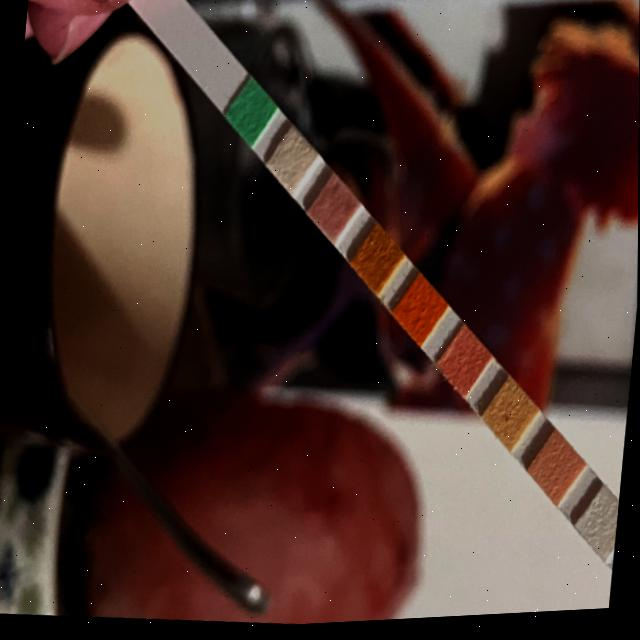Bilirubin: (275, 140, 304, 187)
Blood: (405, 289, 434, 338)
Glucose: (235, 94, 263, 139)
Ketone: (320, 191, 347, 234)
Nitrite: (589, 506, 619, 555)
Protein: (495, 398, 523, 442)
SpGravity: (363, 242, 389, 285)
Urobilinogen: (538, 452, 571, 496)
pH: (449, 343, 479, 390)
